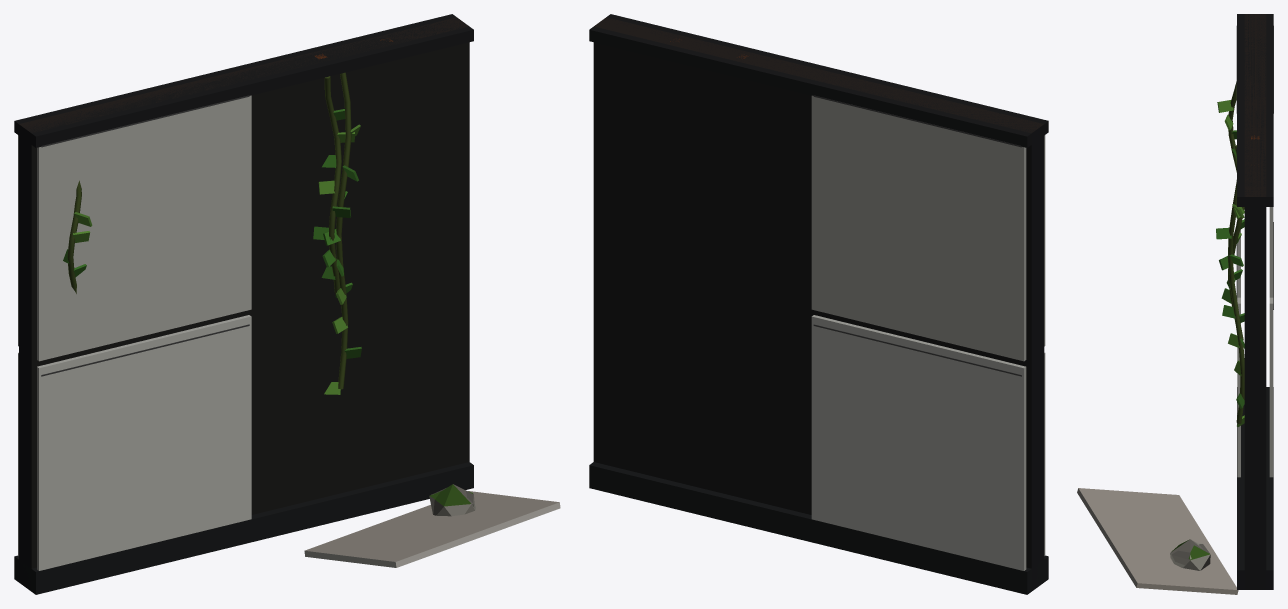
Rendered from kit_wall_damaged.glb.
3 views of the same model, side by side, from view 1: azimuth 30°, elevation 25°; view 2: azimuth 150°, elevation 25°; view 3: azimuth 270°, elevation 25° (orthographic). The views are drawn at different scales.
Visible parts, largest first — view 1: Mesh; view 2: Mesh; view 3: Mesh.
Part boxes in pixels (<box>): Mesh: <box>14,14,560,594</box>; Mesh: <box>589,14,1048,594</box>; Mesh: <box>1077,14,1273,594</box>.
Bounding box in the file's own units: 4.26 × 4.07 × 1.82.
